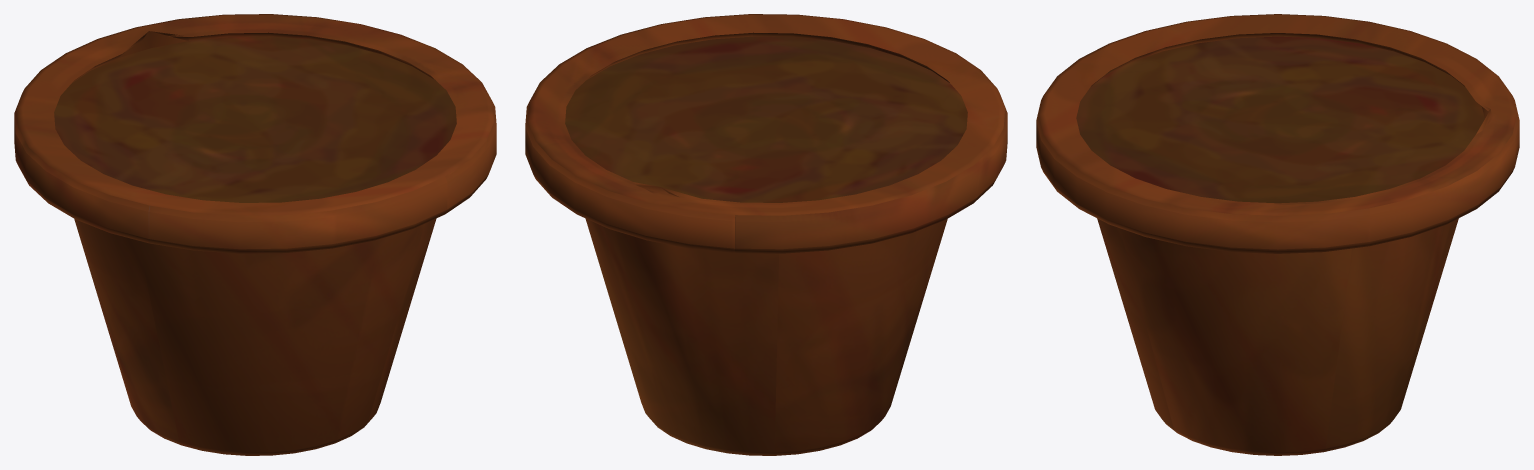
File: vaso2presente.glb
3 views of the same model, side by side, from view 1: azimuth 30°, elevation 25°; view 2: azimuth 150°, elevation 25°; view 3: azimuth 270°, elevation 25° (orthographic).
Visible parts, largest first — view 1: vaso, terra; view 2: vaso, terra; view 3: vaso, terra.
Boxes of the visible parts, left/top/right/bottom form: vaso: left=14, top=14, right=496, bottom=455; terra: left=54, top=36, right=456, bottom=202; vaso: left=525, top=14, right=1007, bottom=455; terra: left=565, top=36, right=967, bottom=202; vaso: left=1036, top=14, right=1519, bottom=455; terra: left=1076, top=36, right=1484, bottom=203.
Size of the model in its own units: 2.87 by 1.95 by 2.87.
2 materials, 2 textured.
